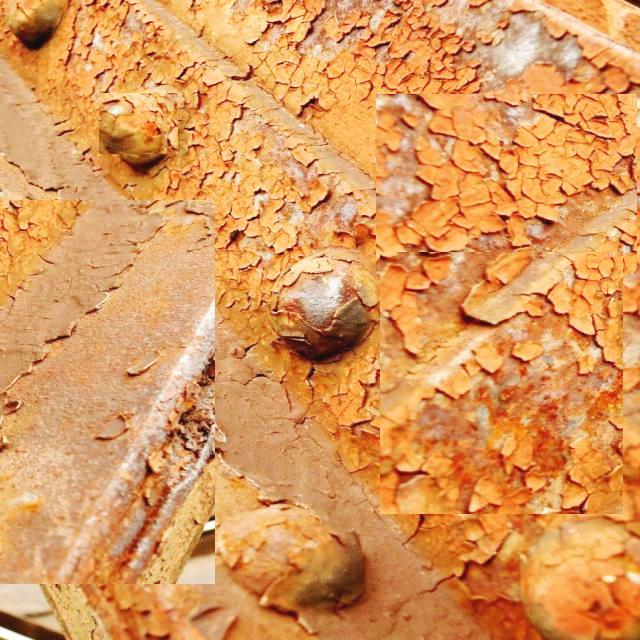Corrosion: (161, 0, 640, 640), (0, 60, 213, 640), (0, 0, 271, 226)
